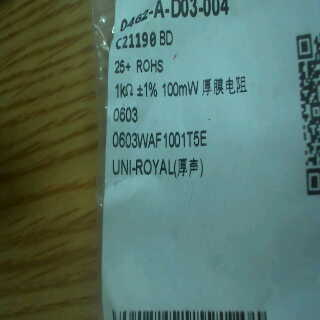1kR: (113, 80, 135, 102)
